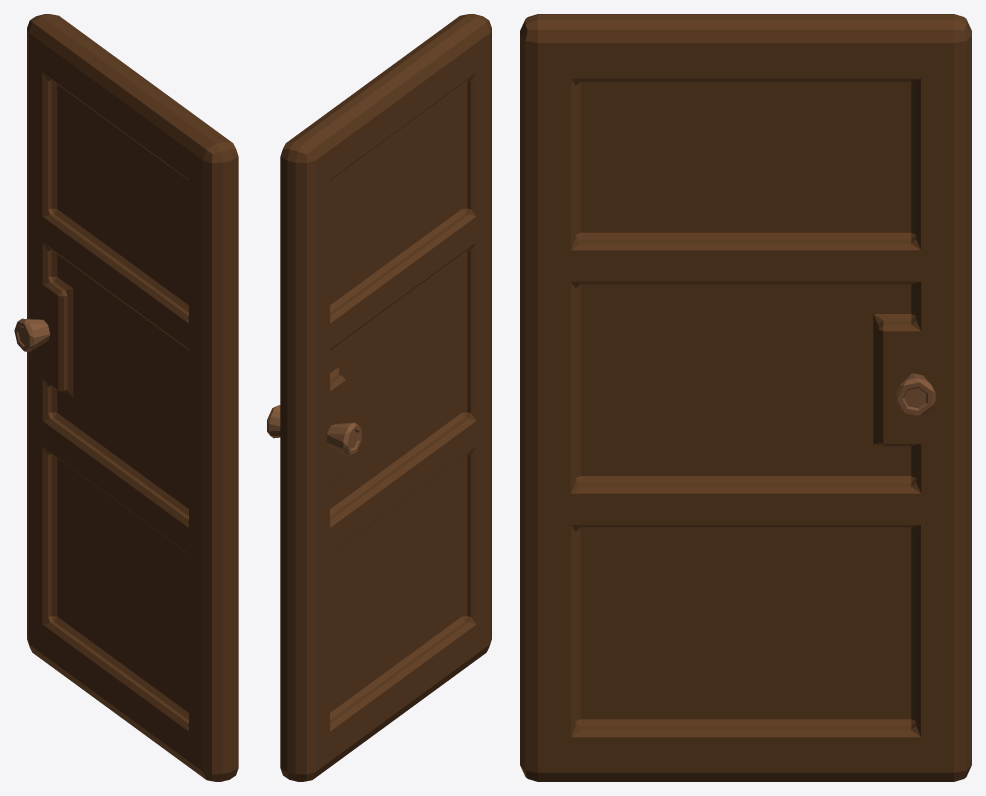
Rendered from Van Room Door.fbx.
3 renders of one model, left to right at view 1: azimuth 30°, elevation 25°; view 2: azimuth 150°, elevation 25°; view 3: azimuth 270°, elevation 25°, orthographic. The views are drawn at different scales.
Visible parts, largest first — view 1: van-room-door-knob-inside; view 2: van-room-door-knob-inside; view 3: van-room-door-knob-inside.
Part boxes in pixels (x1,y1,x2,y2): van-room-door-knob-inside: [14, 14, 238, 781]; van-room-door-knob-inside: [267, 14, 491, 781]; van-room-door-knob-inside: [520, 14, 971, 781].
Bounding box in the file's own units: 112 × 838 × 450.
